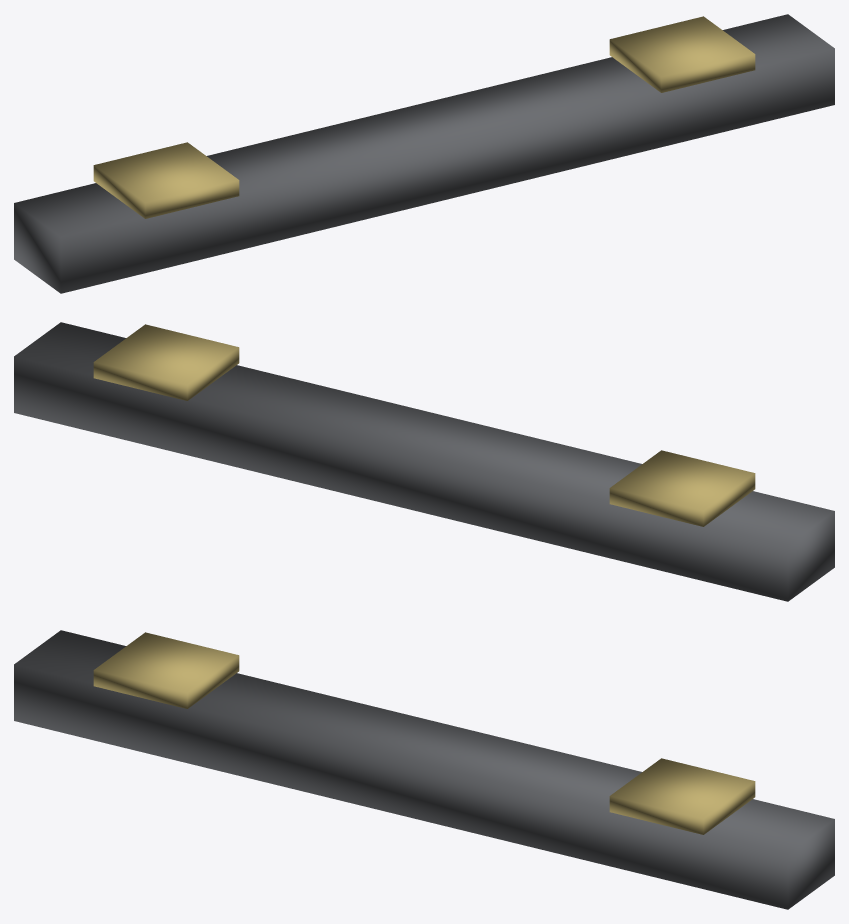
The model's file is wheel_stop_04.glb.
3 renders of one model, top to bottom at view 1: azimuth 30°, elevation 25°; view 2: azimuth 150°, elevation 25°; view 3: azimuth 330°, elevation 25°, orthographic.
Parts seen in each view (by area): view 1: world; view 2: world; view 3: world.
Boxes of the visible parts, x1,y1,x2,y2 form: world: (14, 14, 834, 293); world: (14, 322, 834, 601); world: (14, 630, 834, 909).
Size of the model in its own units: 1.85 by 0.1656 by 0.2134.
